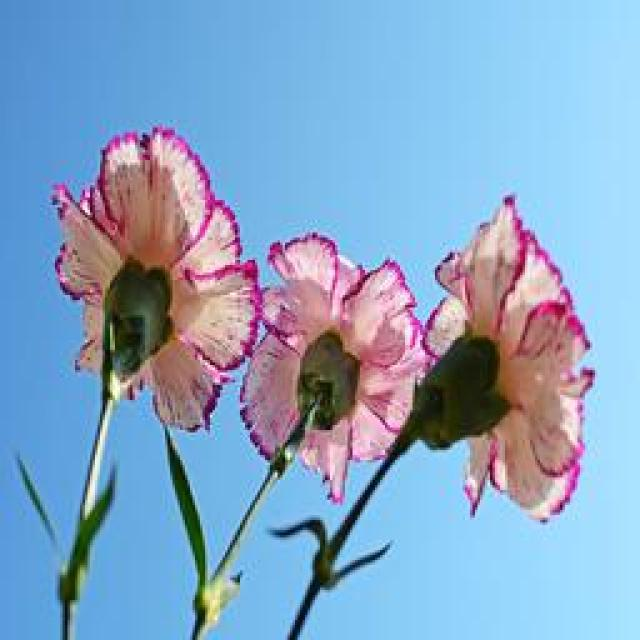carnation: (244, 208, 424, 496)
